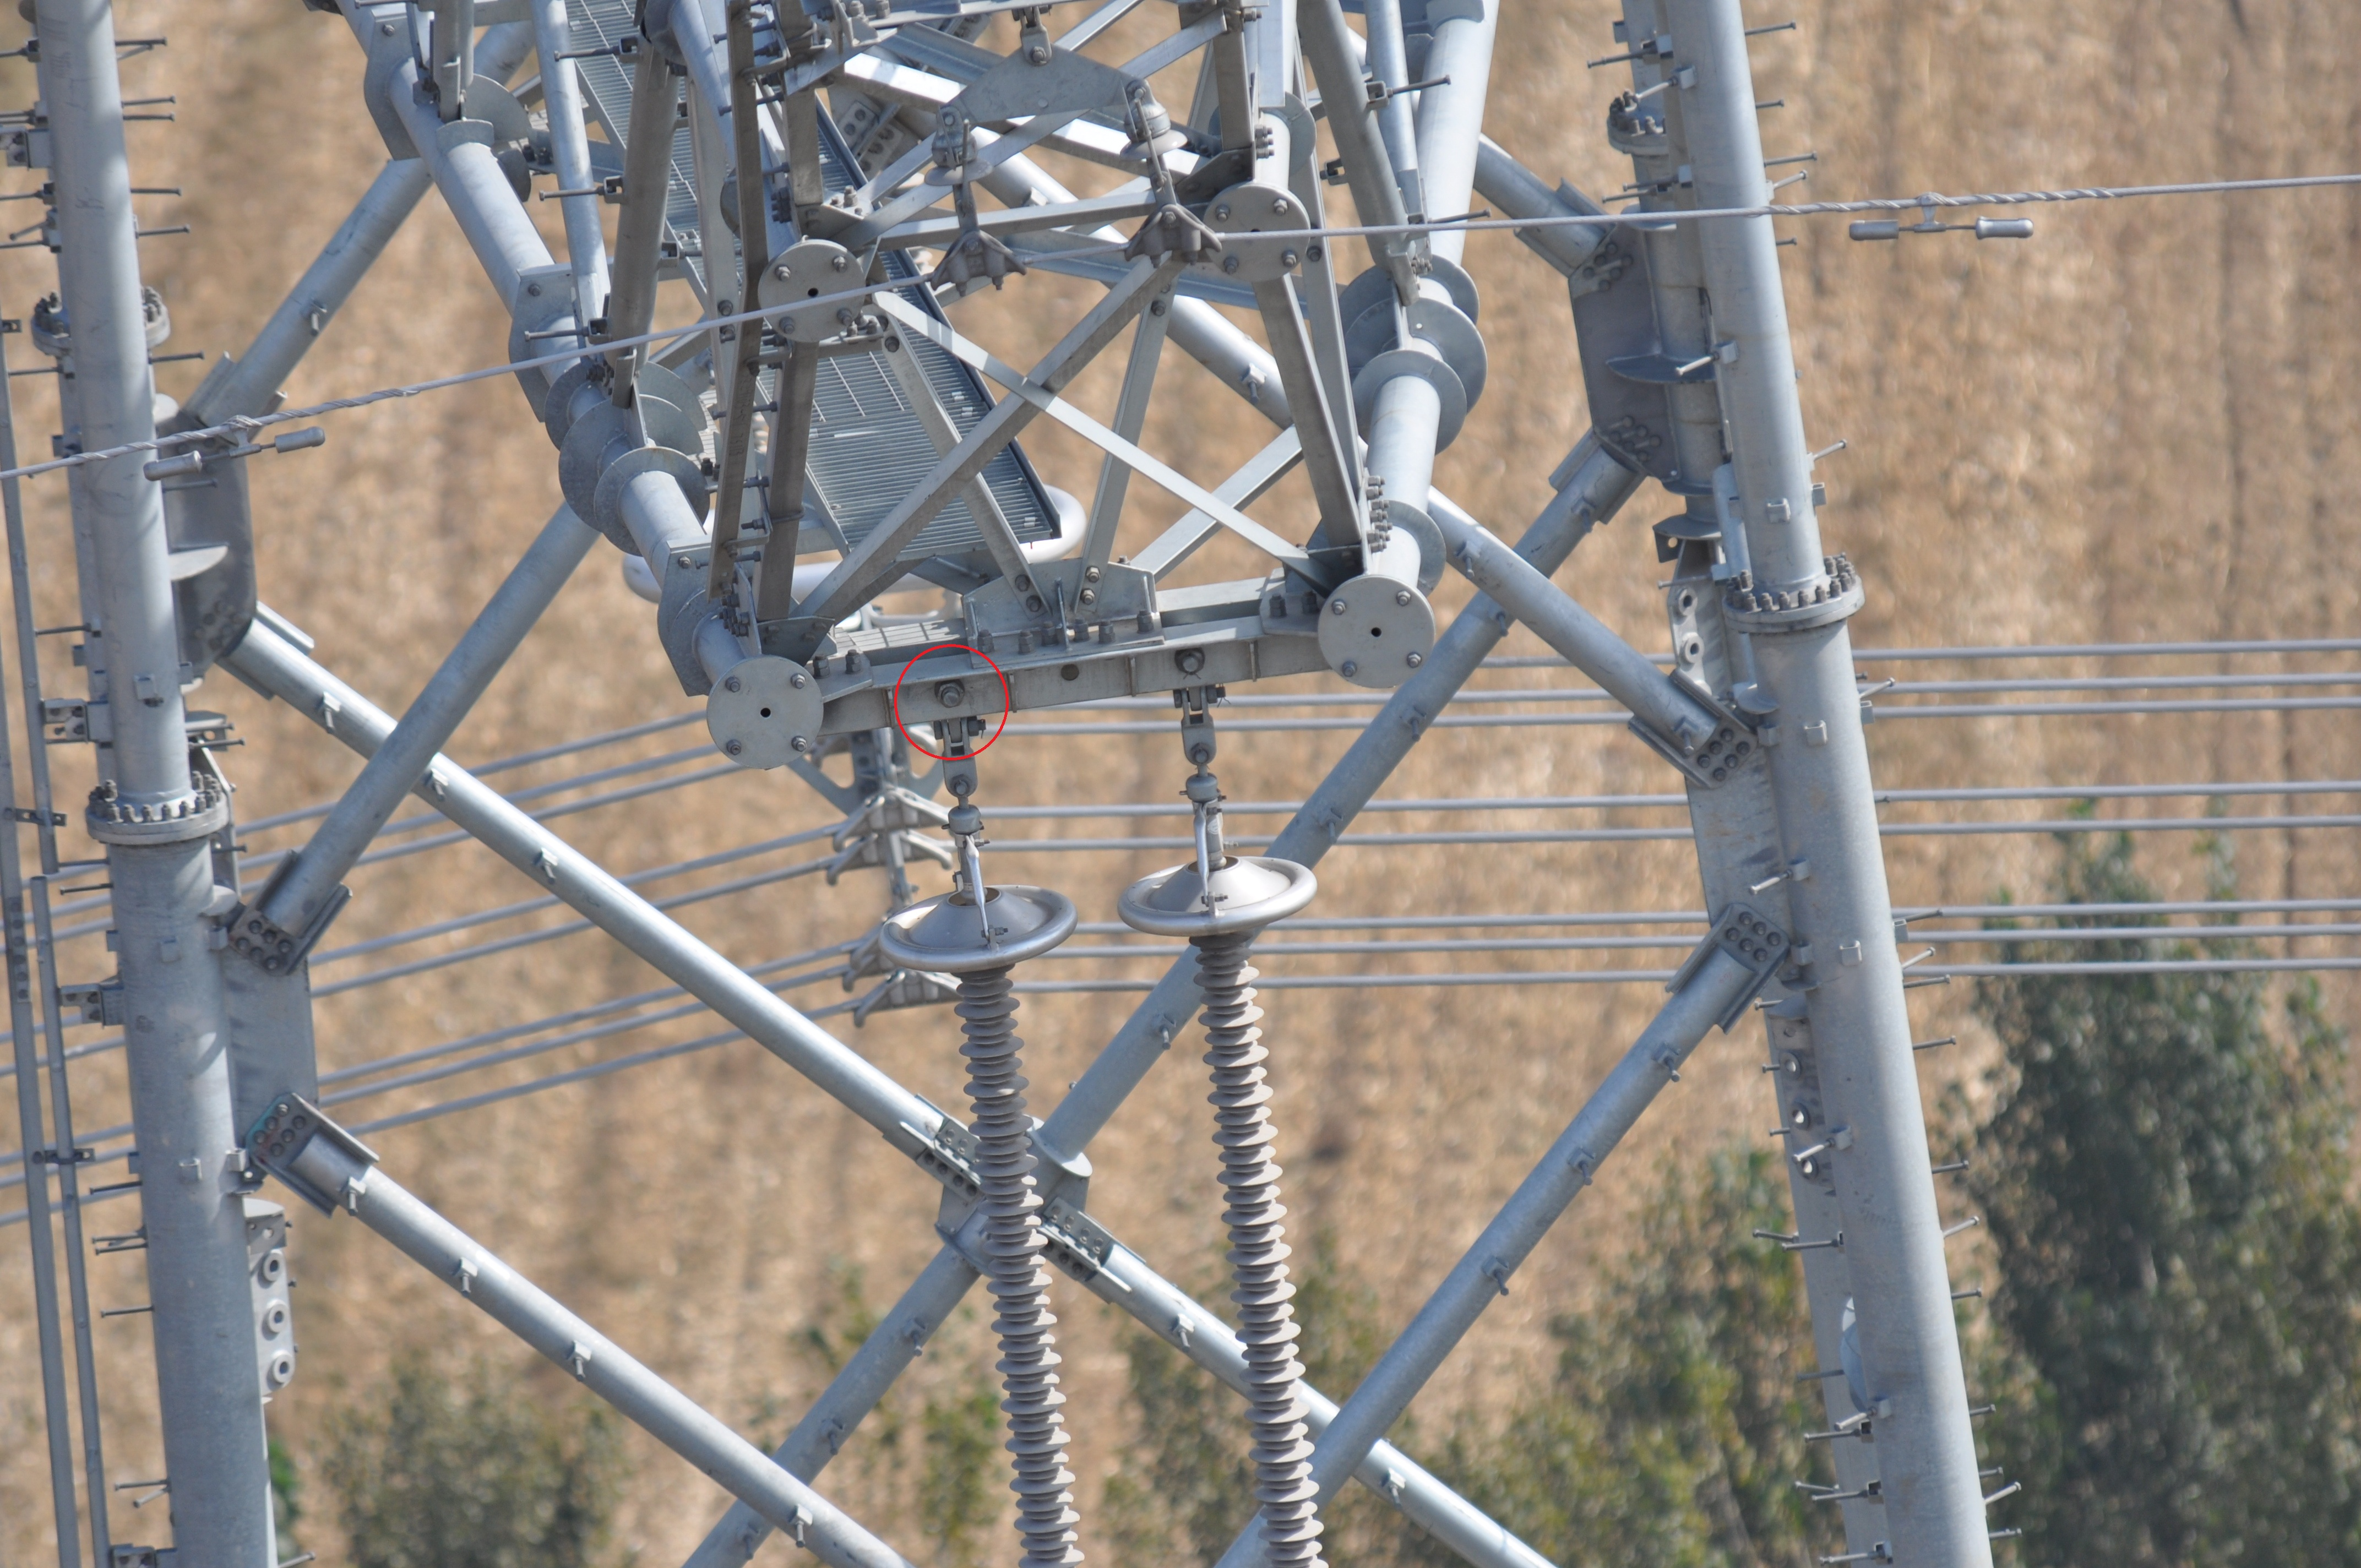bag-type suspension clamp: (826, 782, 950, 852), (852, 964, 964, 1029), (926, 234, 1029, 299), (1124, 203, 1225, 266)
grading ring: (875, 826, 1082, 975), (1118, 793, 1318, 936)
shockproof hammer: (147, 413, 329, 485), (1845, 191, 2037, 248)
yoke plate: (936, 38, 1155, 131)
